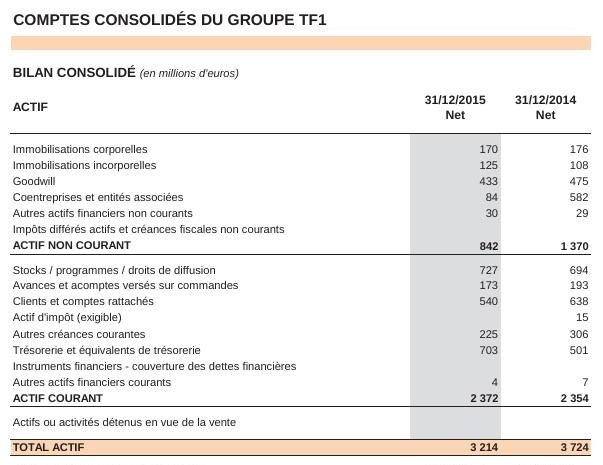table: (0, 0, 603, 465)
